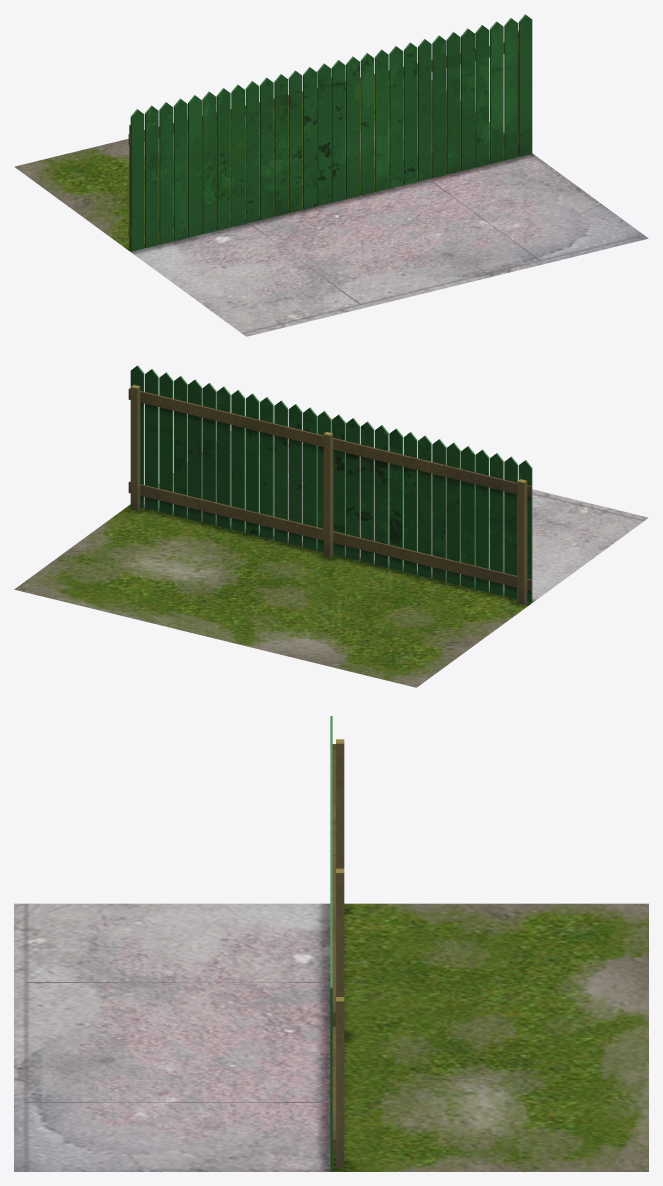
The model's file is Small Fence.fbx.
The picture shows the model from 3 angles, top to bottom: view 1: azimuth 30°, elevation 25°; view 2: azimuth 150°, elevation 25°; view 3: azimuth 270°, elevation 25°; orthographic projection. The views are drawn at different scales.
Visible parts, largest first — view 1: fence; view 2: fence; view 3: fence.
Boxes of the visible parts, x1,y1,x2,y2 form: fence: [14, 14, 648, 336]; fence: [14, 365, 648, 687]; fence: [14, 716, 648, 1171].
Bounding box in the file's own units: 5 × 1.67 × 5.
1 material, 1 textured.
